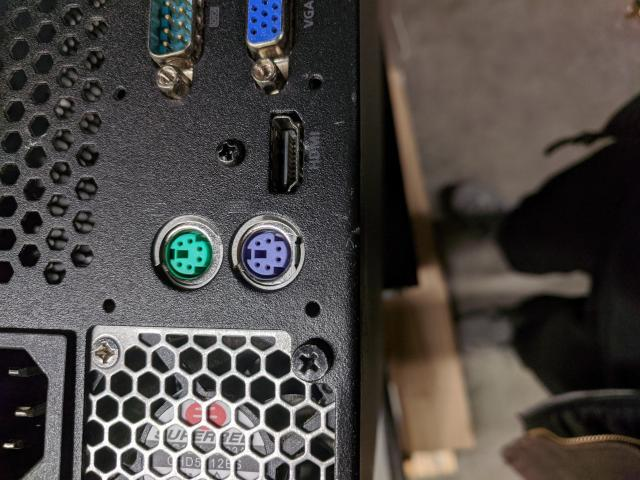CRS: (291, 343, 332, 382), (214, 134, 248, 170), (90, 333, 120, 369)
